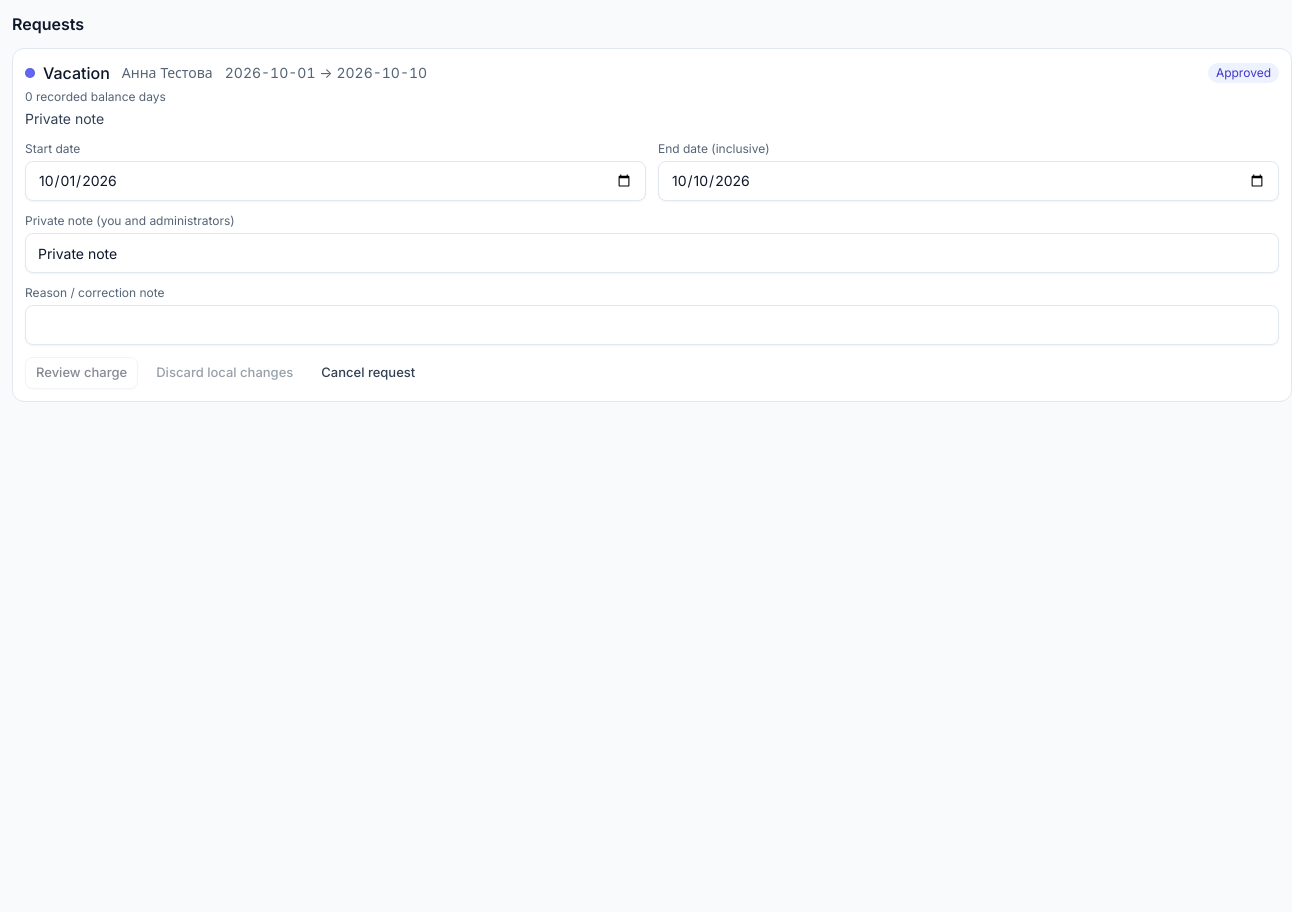
it: historical absence correction advisory › shows advisory deficit details for eligible fully elapsed date correction with reason
The image size is (1292, 912).
Type "2026-10-08" into the date field labelled "End date (inclusive)" at coordinates (968, 181), box [658,161,1279,201]
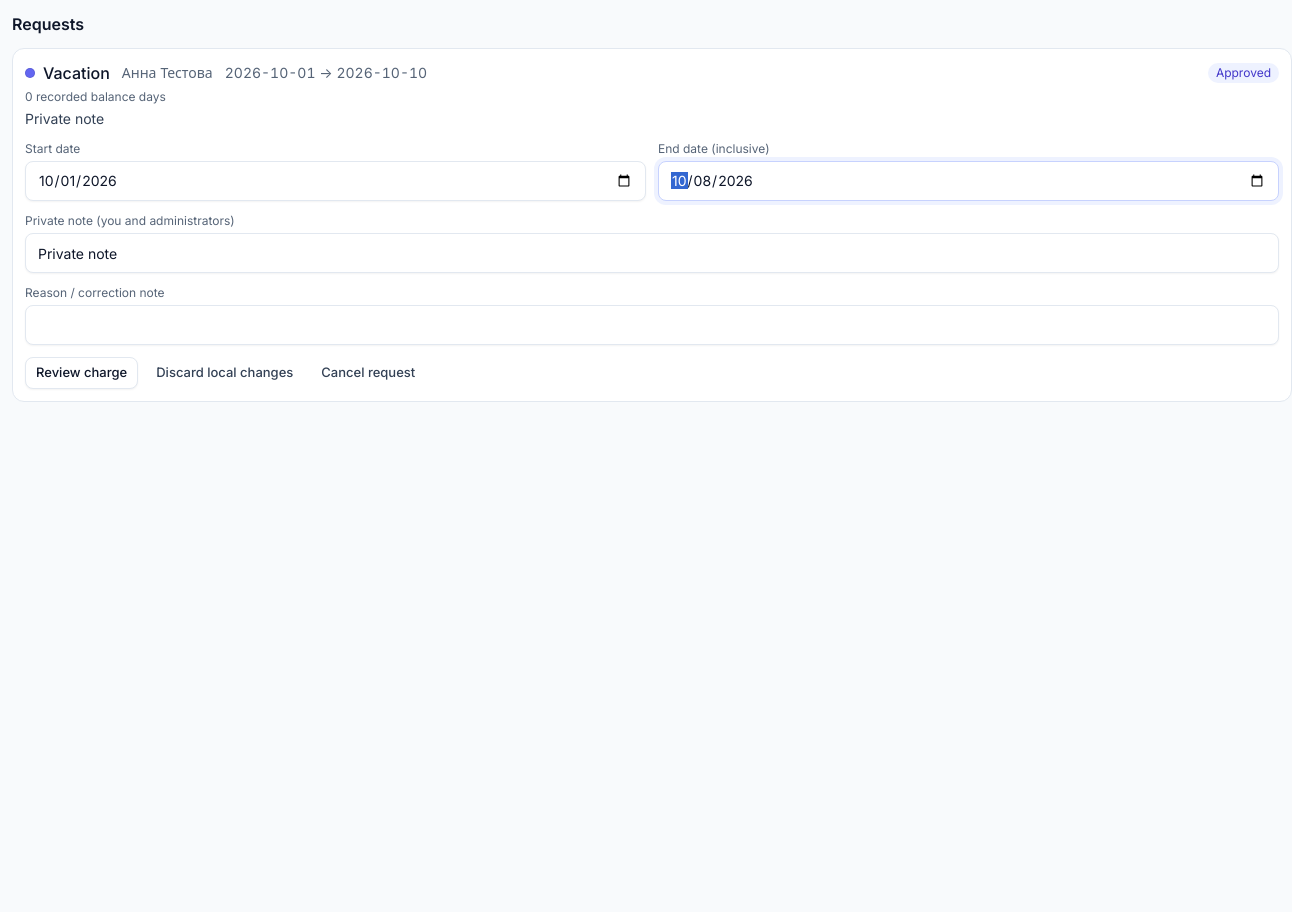
Type "Correcting dates from HR records" into the field labelled "Reason / correction note" at coordinates (652, 325), box [25,305,1279,345]
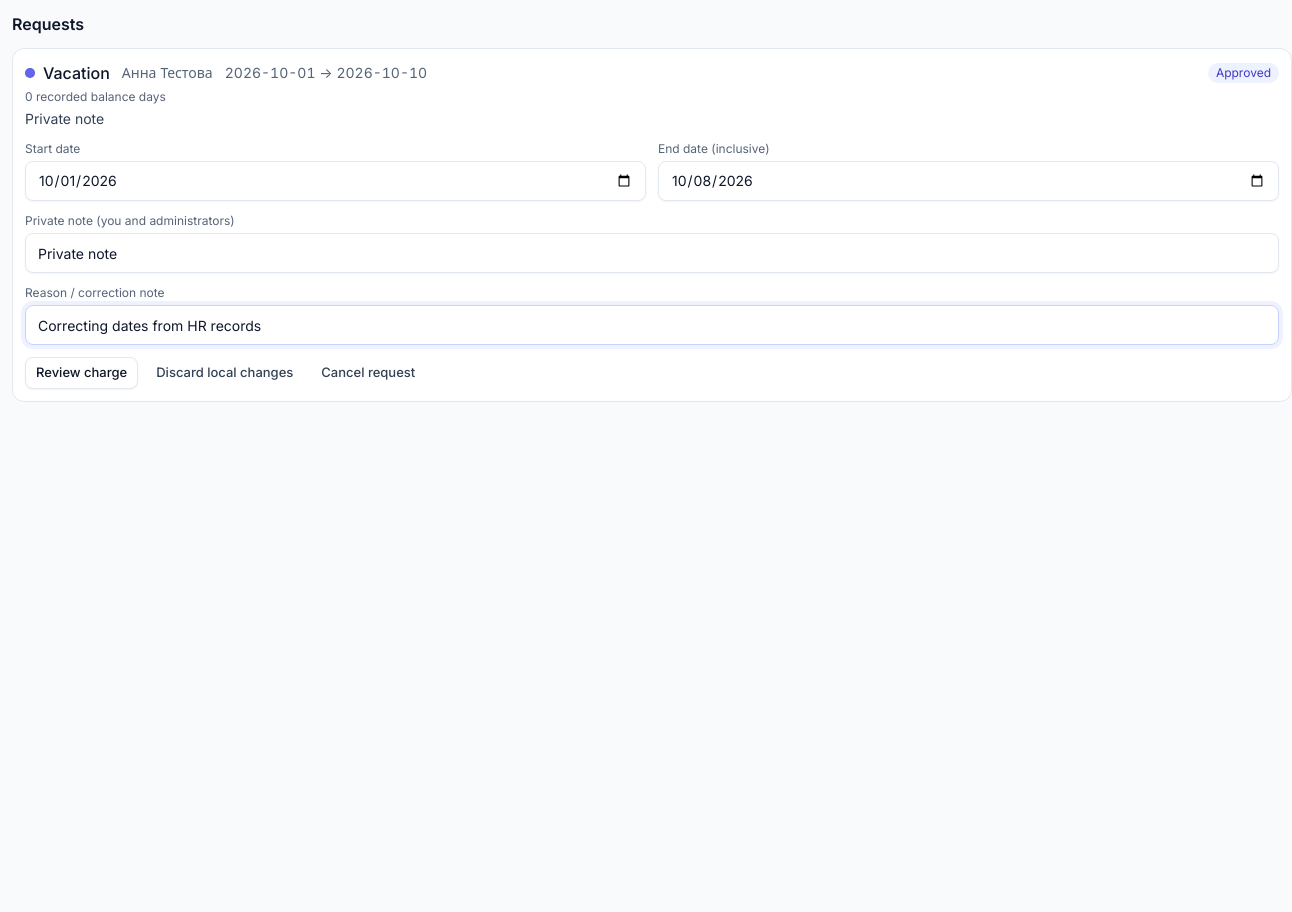
Click the button "Review charge" at coordinates (82, 373), box [25,357,138,389]
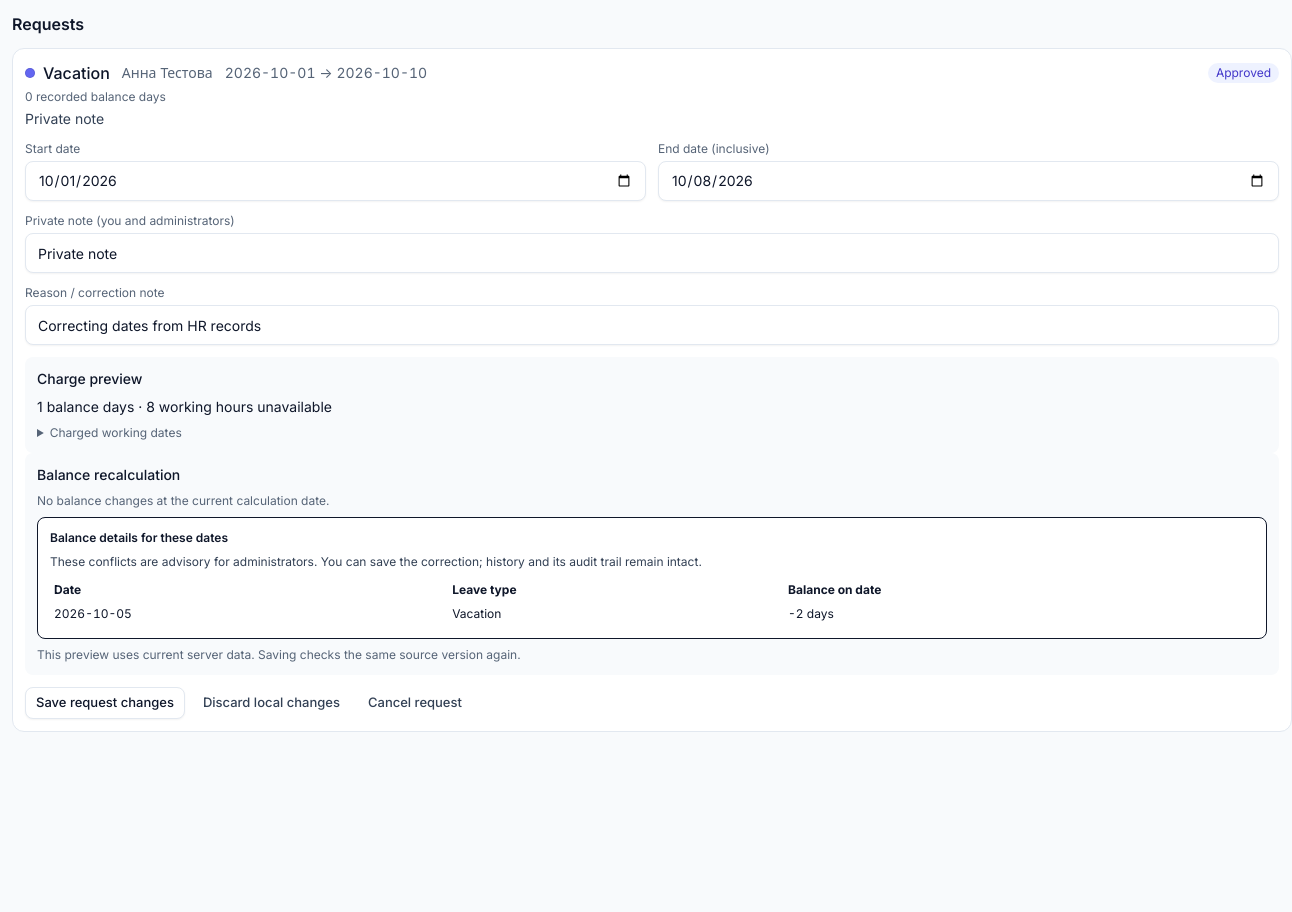
Check: the element "Balance details for these dates" is shown, box [37,517,1267,639]
Check: the text "You can save the correction" is shown, box [50,554,702,569]
Check: the text "2026-10-05" is shown, box [50,602,448,626]
